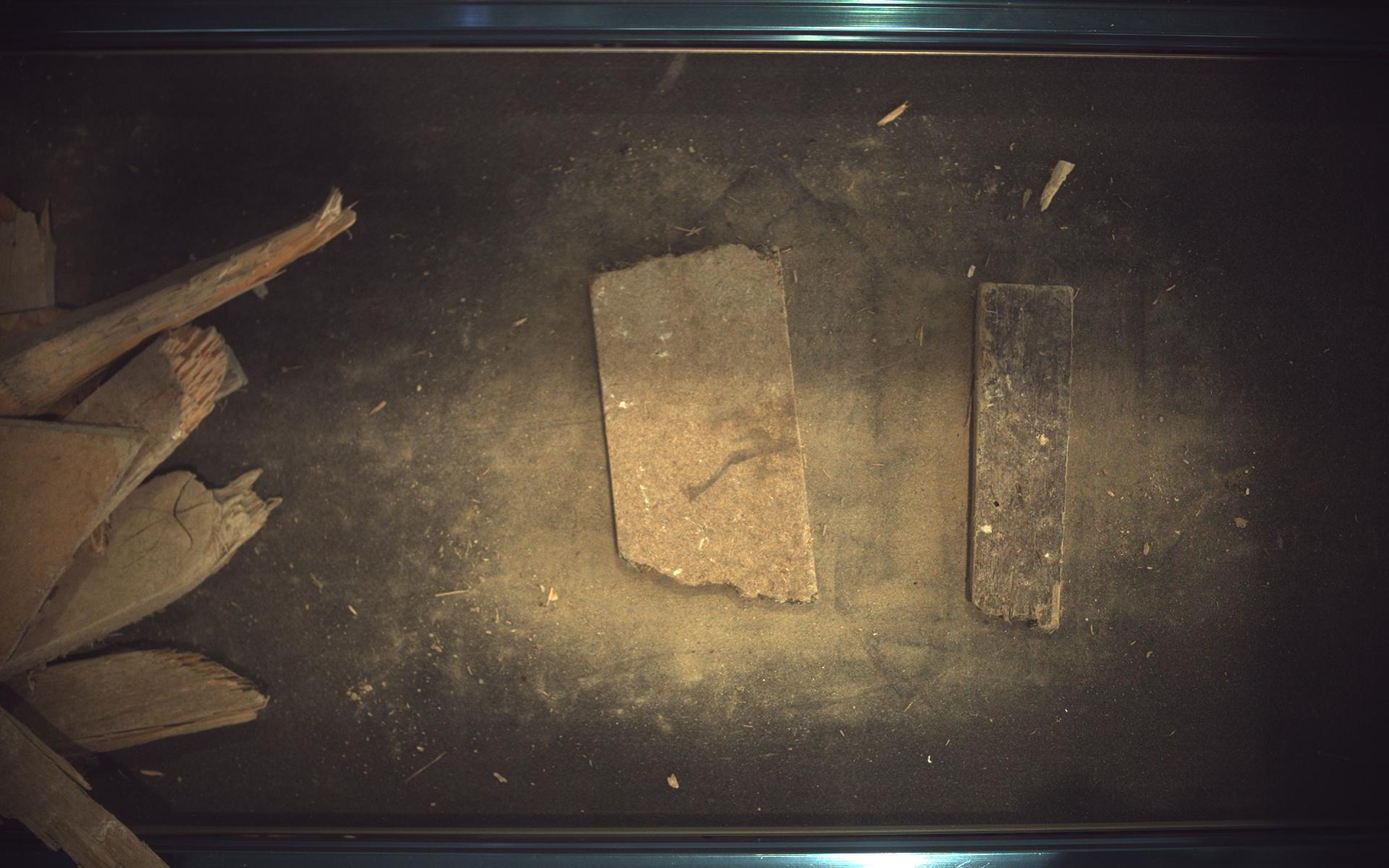wood: (591, 244, 818, 603), (1, 189, 355, 417), (1, 470, 281, 680), (971, 282, 1076, 633), (1, 420, 143, 663), (67, 325, 246, 515), (1, 650, 268, 764), (1, 710, 166, 868), (1, 192, 54, 313), (38, 352, 129, 418), (2, 305, 67, 342)
